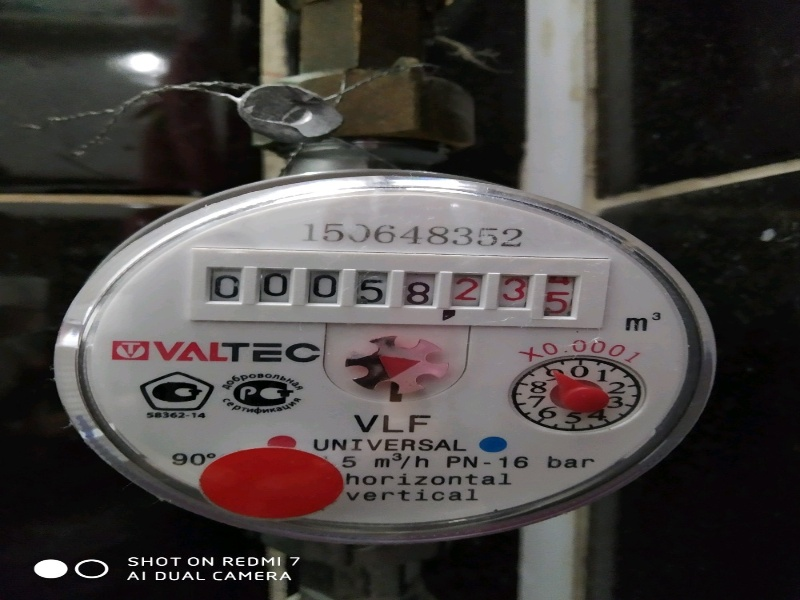meter: (201, 260, 582, 326)
